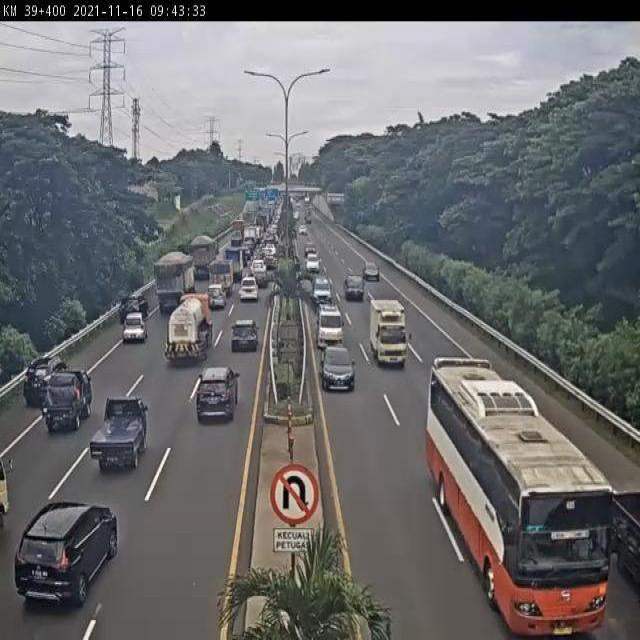big bus: (427, 356, 615, 640)
car: (15, 501, 119, 612), (87, 397, 151, 480), (41, 368, 93, 436), (193, 360, 241, 427), (24, 355, 66, 412), (319, 342, 356, 398), (317, 300, 344, 351), (230, 320, 260, 355), (119, 296, 152, 327), (120, 316, 149, 351), (237, 278, 259, 306), (208, 281, 229, 308)
small truck: (367, 297, 410, 371)
truck-l-: (154, 251, 197, 320)
truck-m-: (164, 291, 217, 368)
